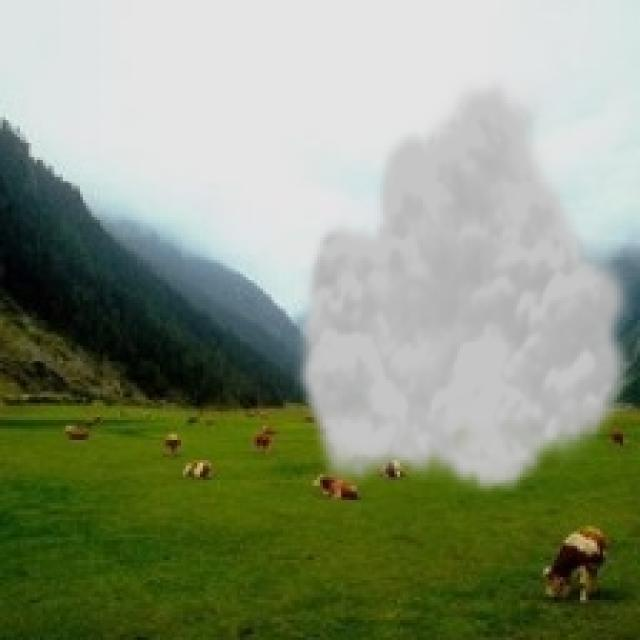smoke: (292, 71, 637, 500)
